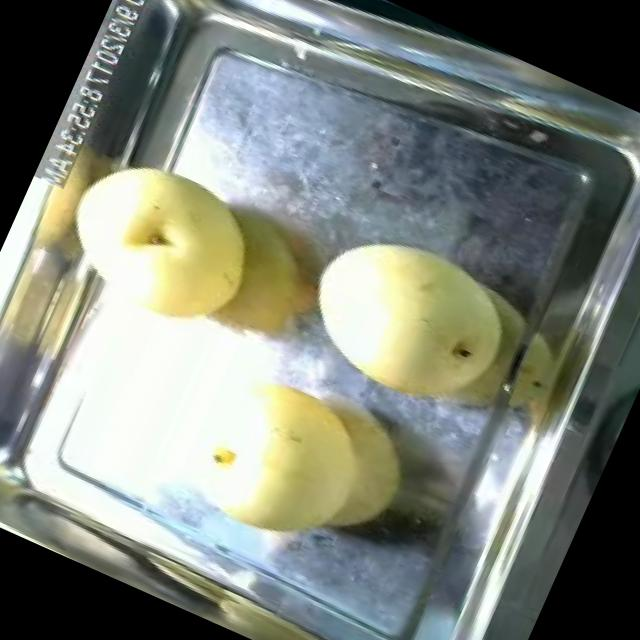Fruit: (279, 198, 546, 440), (192, 352, 435, 586), (39, 130, 282, 356)
